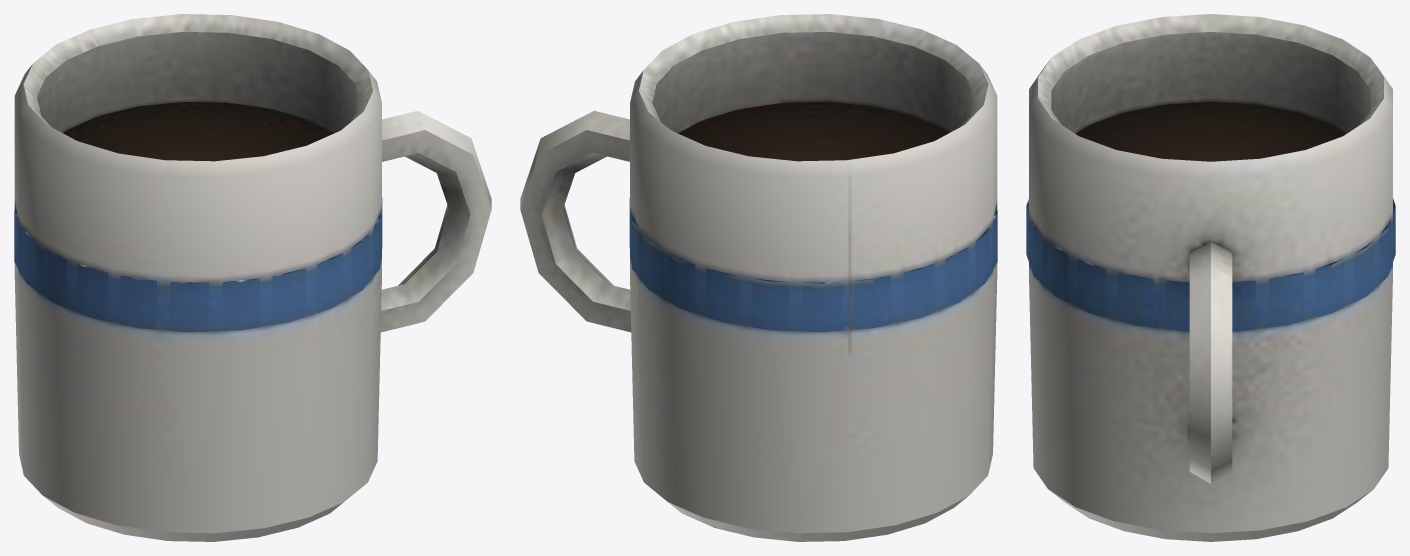
Rendered from mug.glb.
3 renders of one model, left to right at view 1: azimuth 30°, elevation 25°; view 2: azimuth 150°, elevation 25°; view 3: azimuth 270°, elevation 25°, orthographic.
Visible parts, largest first — view 1: mug; view 2: mug; view 3: mug.
Boxes of the visible parts, left/top/right/bottom form: mug: left=14, top=14, right=491, bottom=541; mug: left=520, top=14, right=997, bottom=541; mug: left=1026, top=14, right=1395, bottom=541.
Size of the model in its own units: 0.1165 by 0.095 by 0.0824.
3 materials, 3 textured.
